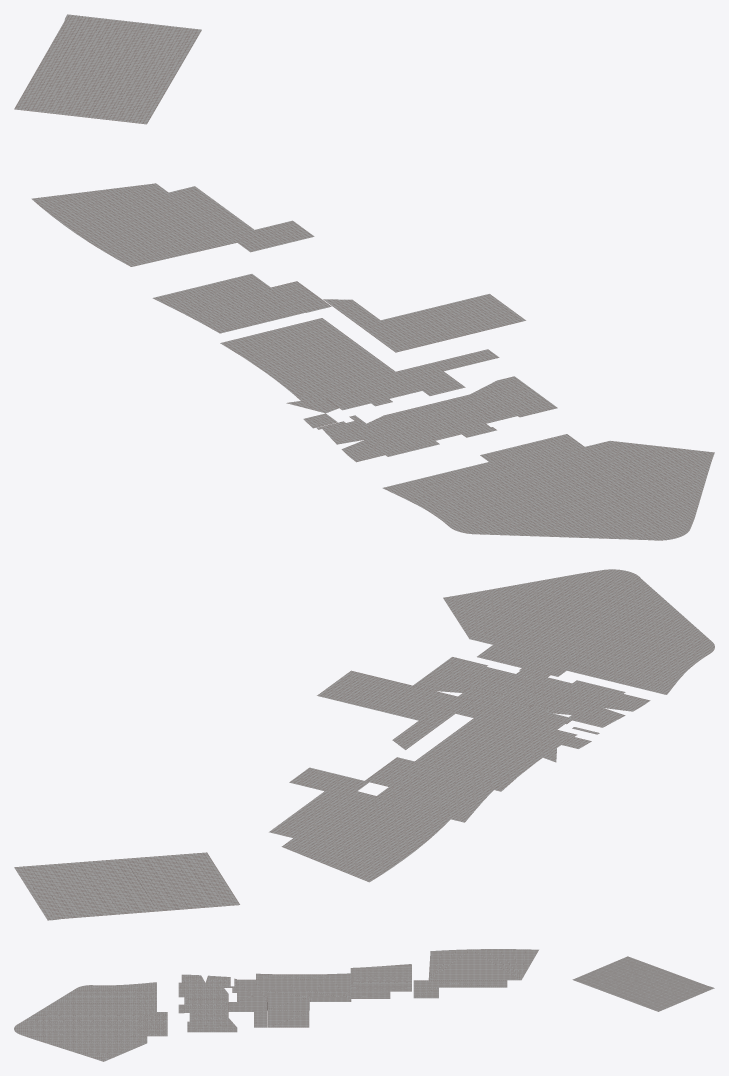
The picture shows the model from 3 angles, top to bottom: view 1: azimuth 30°, elevation 25°; view 2: azimuth 150°, elevation 25°; view 3: azimuth 270°, elevation 25°; orthographic projection. The views are drawn at different scales.
Parts seen in each view (by area): view 1: _9101cd0186; view 2: _9101cd0186; view 3: _9101cd0186.
Boxes of the visible parts, x1,y1,x2,y2 form: _9101cd0186: (14,14,714,540); _9101cd0186: (14,569,714,920); _9101cd0186: (14,949,714,1061).
Size of the model in its own units: 168 by 585 by 39.
1 material, 1 textured.
